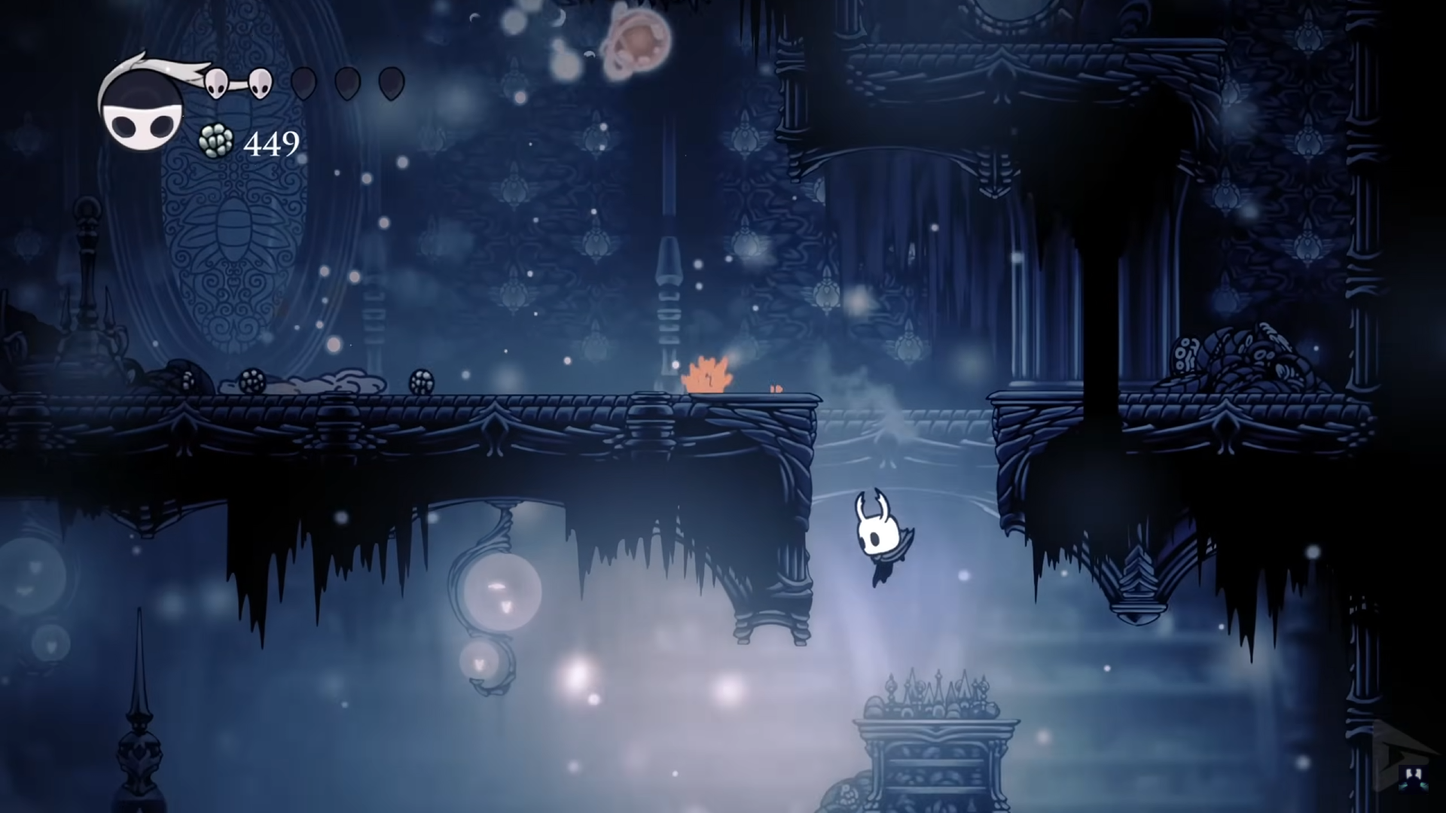HK: (853, 484, 912, 587)
